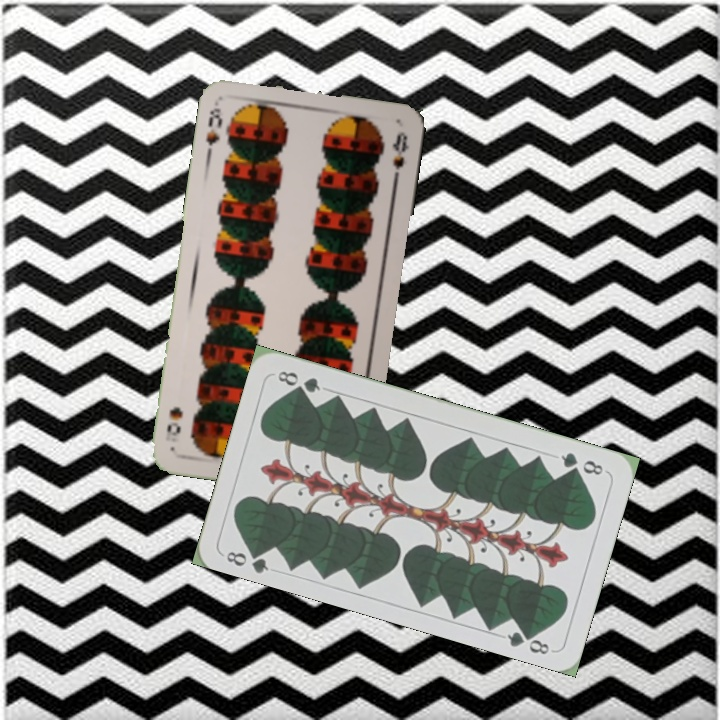G8: (222, 543, 272, 575), (556, 448, 606, 478)
S8: (202, 103, 225, 160)
